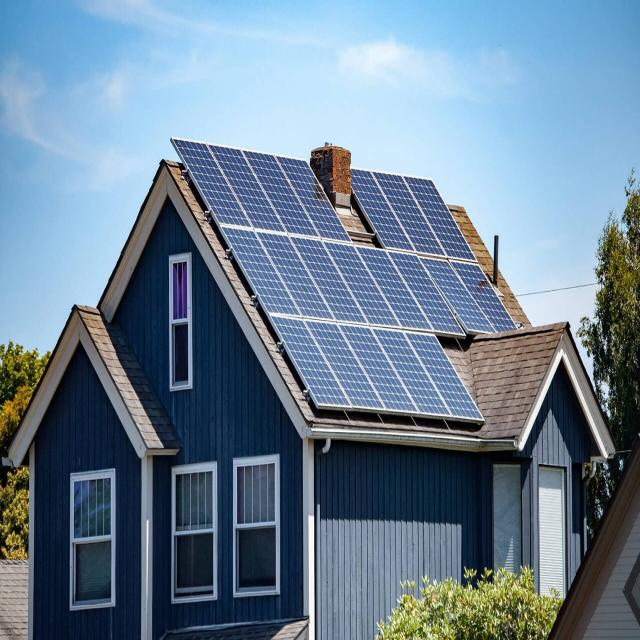clean-solar-panel: (173, 138, 519, 422)
